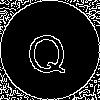Q: (25, 25, 68, 76)
